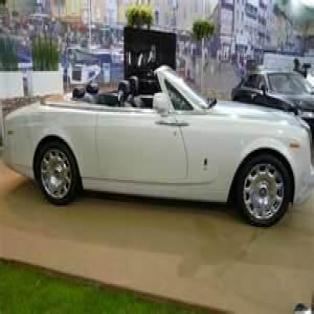Auto: (4, 66, 312, 226)
